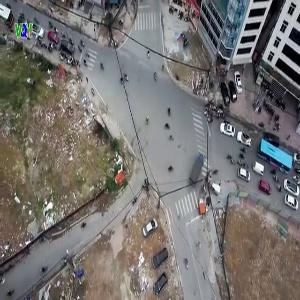drone: (227, 109, 281, 163)
